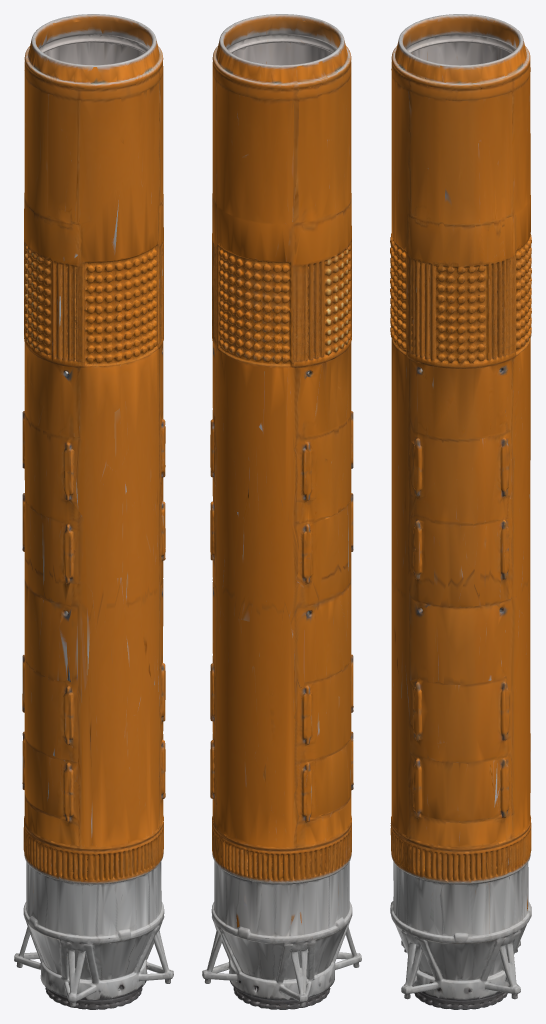
The model's file is cohete_auxiliar_cuerpo.obj.
The picture shows the model from 3 angles, left to right: view 1: azimuth 30°, elevation 25°; view 2: azimuth 150°, elevation 25°; view 3: azimuth 270°, elevation 25°; orthographic projection.
Visible parts, largest first — view 1: cuerpoC_Material.001; view 2: cuerpoC_Material.001; view 3: cuerpoC_Material.001.
Boxes of the visible parts, left/top/right/bottom form: cuerpoC_Material.001: left=14, top=14, right=173, bottom=1009; cuerpoC_Material.001: left=202, top=14, right=361, bottom=1009; cuerpoC_Material.001: left=390, top=14, right=531, bottom=1009.
Size of the model in its own units: 0.7718 by 5.71 by 0.7717.
Materials: 1 (1 with a texture image).
